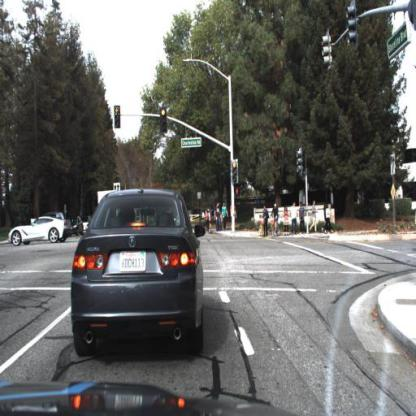biker: (268, 201, 282, 237)
car: (70, 185, 207, 362), (9, 217, 72, 248), (66, 212, 87, 239)
pedestrian: (259, 201, 271, 238), (204, 203, 216, 239), (309, 199, 320, 235), (325, 202, 336, 233), (290, 201, 298, 237), (299, 200, 307, 236), (221, 202, 230, 233), (282, 206, 291, 237), (215, 201, 223, 233)
trafficLight-Red: (230, 158, 241, 187), (159, 105, 169, 136)
trafficLight-RedLeft: (113, 103, 123, 131)
